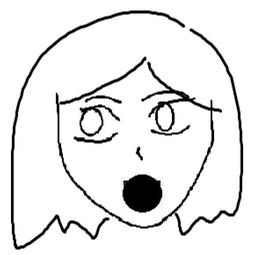eye: (142, 98, 201, 139), (71, 104, 122, 148)
eyebrow: (140, 82, 186, 102), (83, 91, 123, 104)
open_mouth: (118, 167, 168, 216)
pointy_nose: (131, 144, 148, 160)
